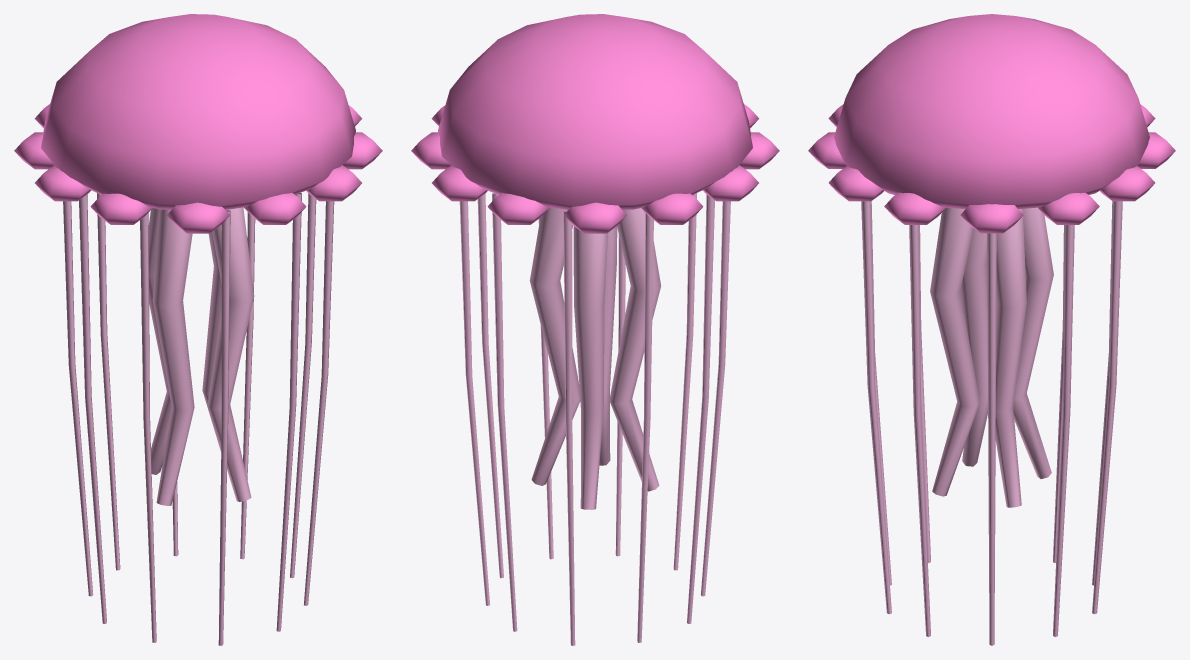
The model's file is aqua_jelly.glb.
3 views of the same model, side by side, from view 1: azimuth 30°, elevation 25°; view 2: azimuth 150°, elevation 25°; view 3: azimuth 270°, elevation 25° (orthographic).
Visible parts, largest first — view 1: Jelly; view 2: Jelly; view 3: Jelly.
Part boxes in pixels (left/top/right/bottom): Jelly: left=14, top=14, right=382, bottom=645; Jelly: left=411, top=14, right=779, bottom=645; Jelly: left=808, top=14, right=1175, bottom=645.
Size of the model in its own units: 0.5666 by 0.9878 by 0.58.
